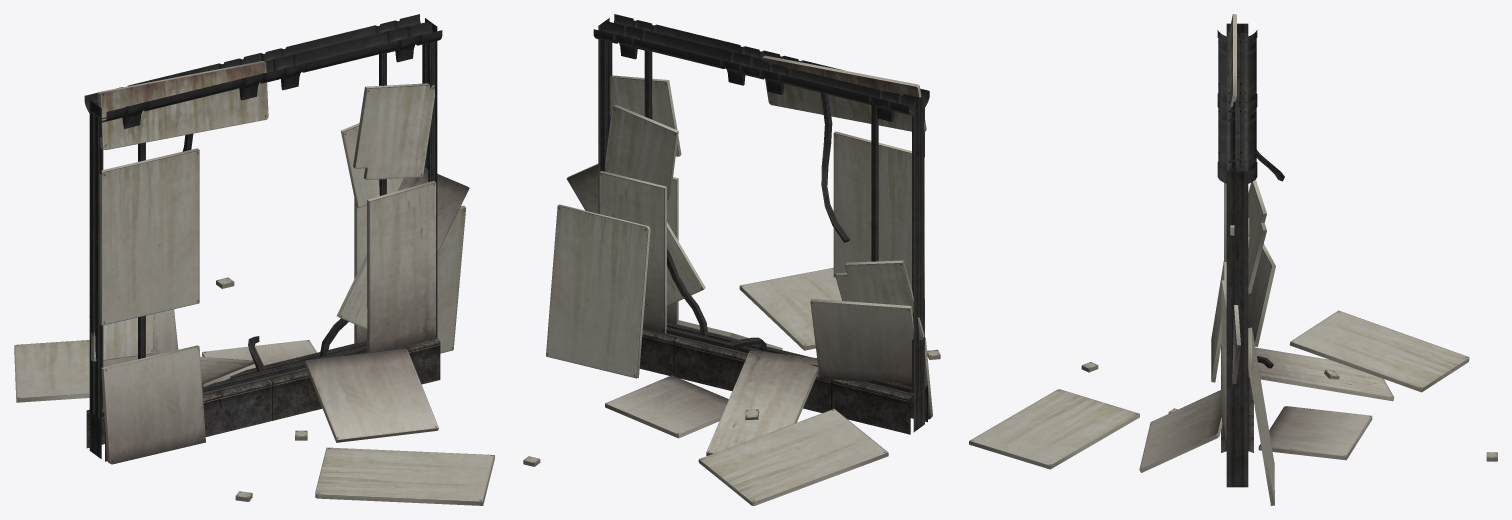
Rendered from lab_broken_wall_large.dae.
3 views of the same model, side by side, from view 1: azimuth 30°, elevation 25°; view 2: azimuth 150°, elevation 25°; view 3: azimuth 270°, elevation 25° (orthographic). The views are drawn at different scales.
Parts seen in each view (by area): view 1: storage_room_large_hole; view 2: storage_room_large_hole; view 3: storage_room_large_hole.
Boxes of the visible parts, x1,y1,x2,y2 form: storage_room_large_hole: (14,14,494,505); storage_room_large_hole: (523,14,940,505); storage_room_large_hole: (969,14,1497,505).
Size of the model in its own units: 4.77 by 4.22 by 6.06.
